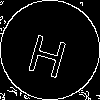H: (25, 25, 72, 79)
